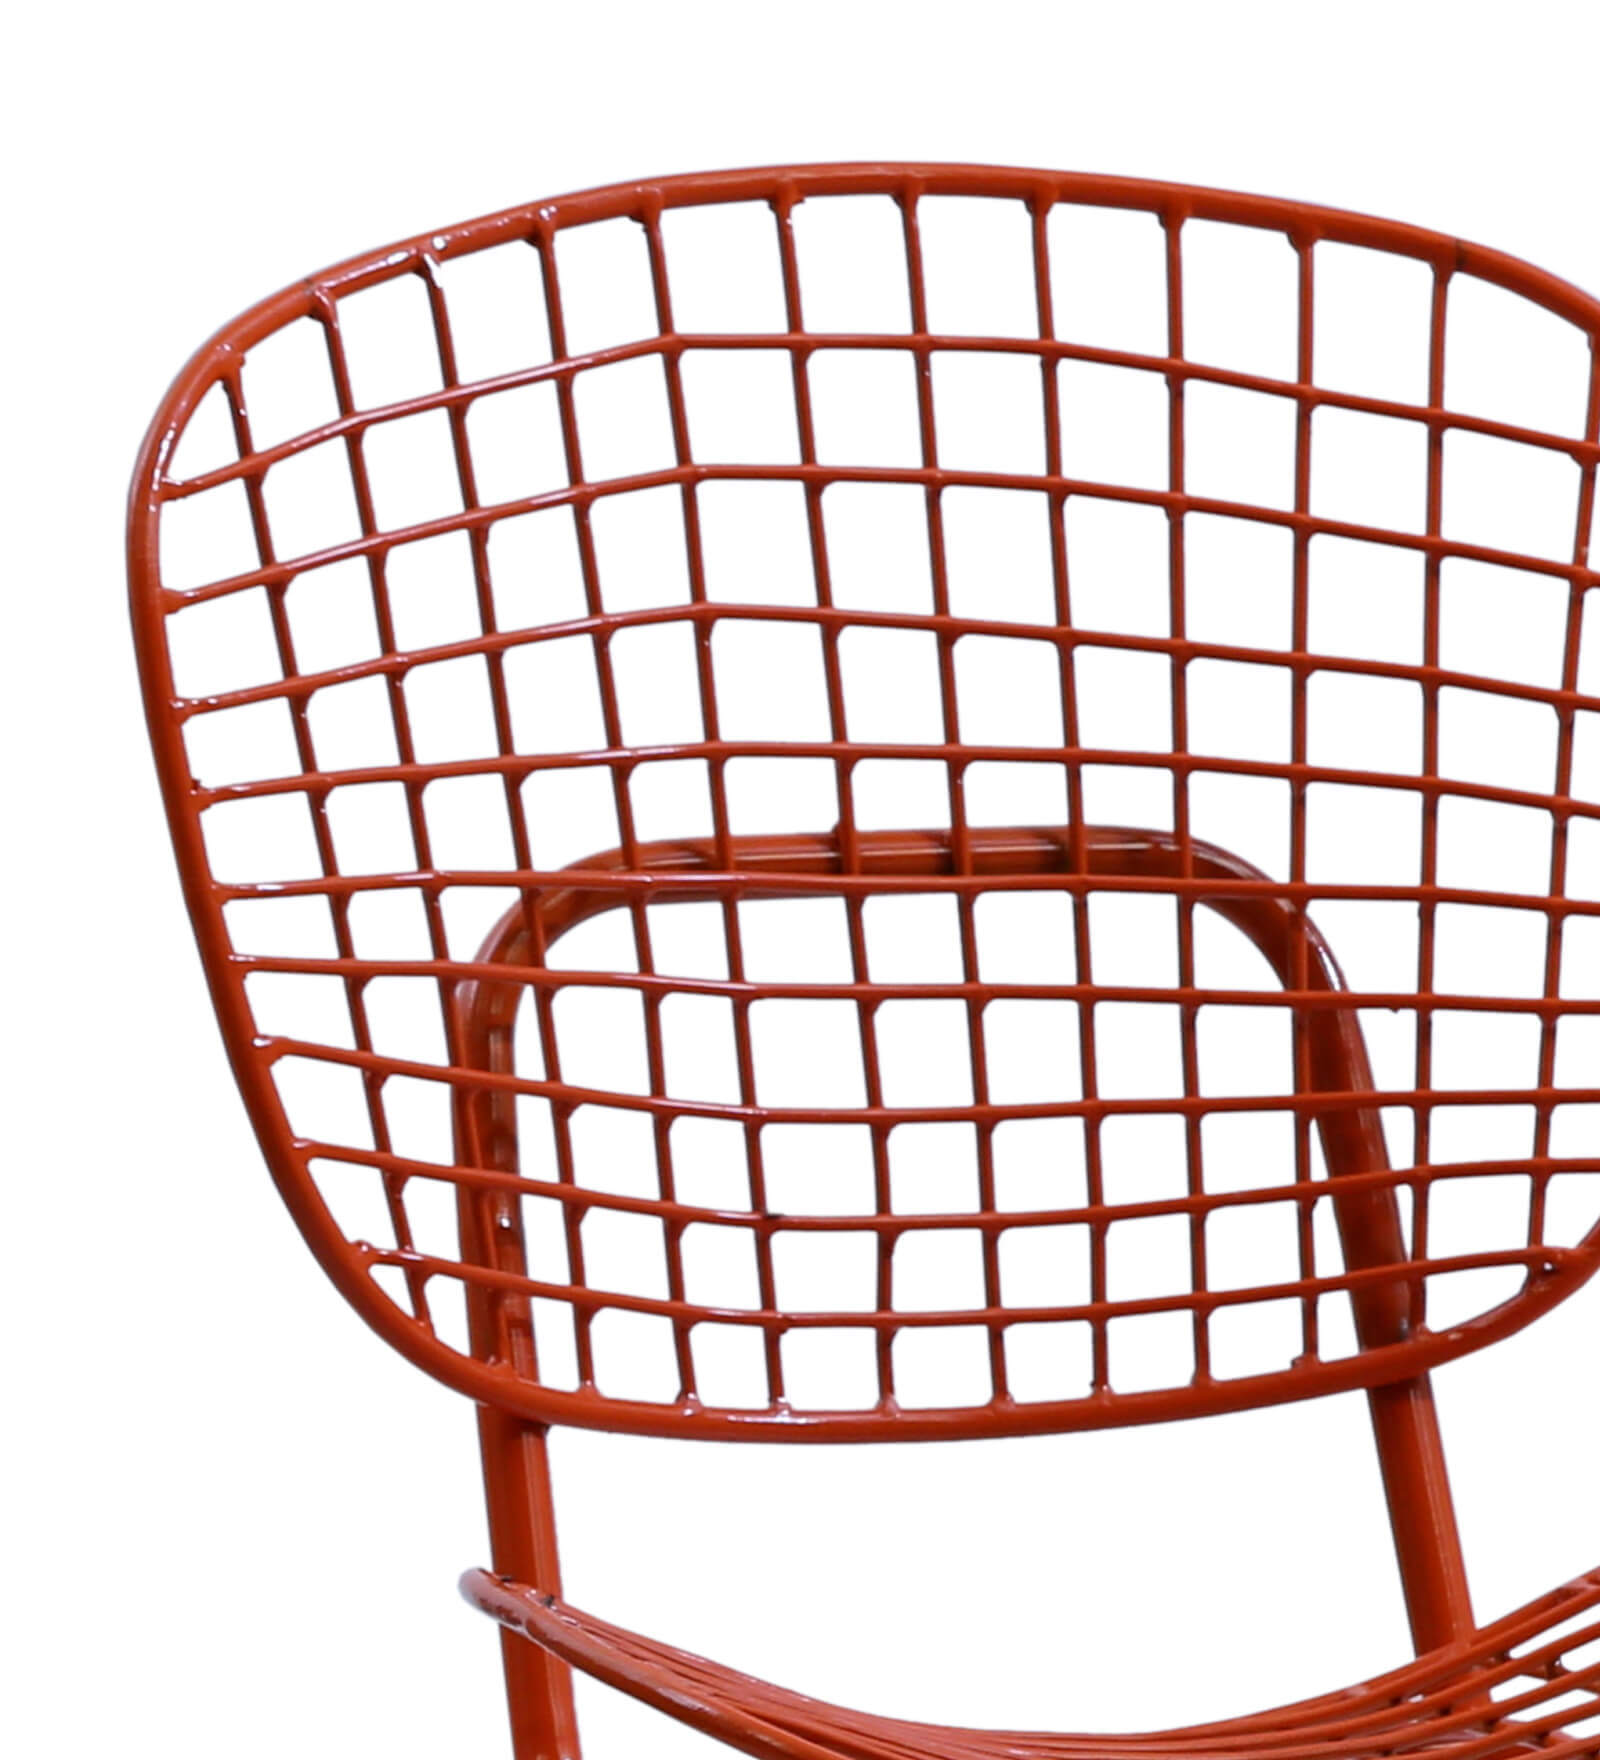Annette Metal Chair in Orange Color by Bohemiana: (90, 136, 1600, 1737)
